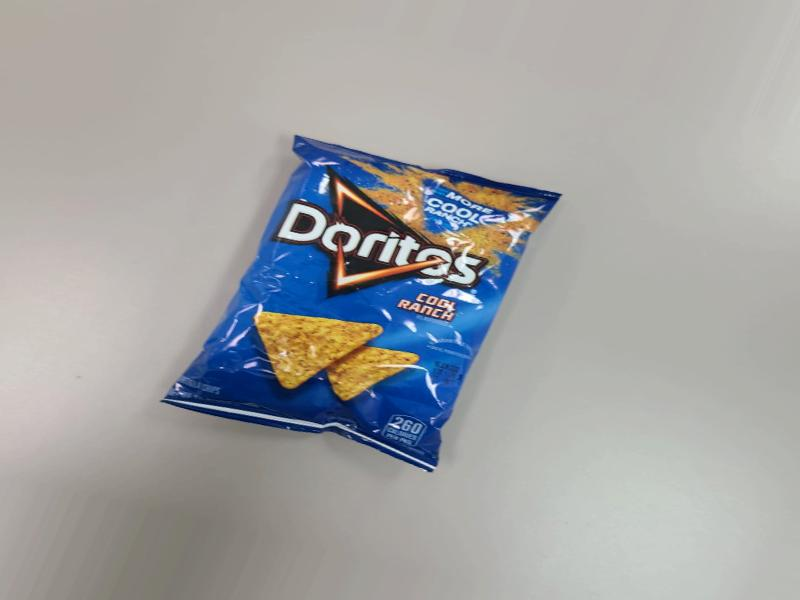doritos: (166, 117, 550, 486)
